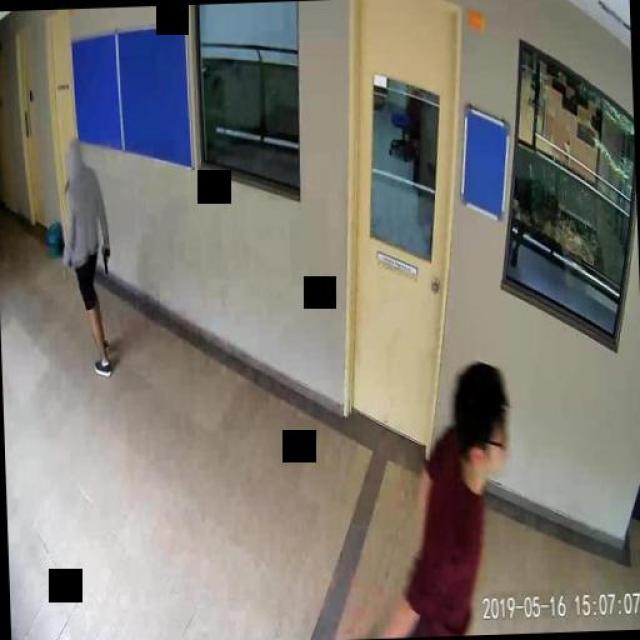gun: (100, 244, 110, 272)
